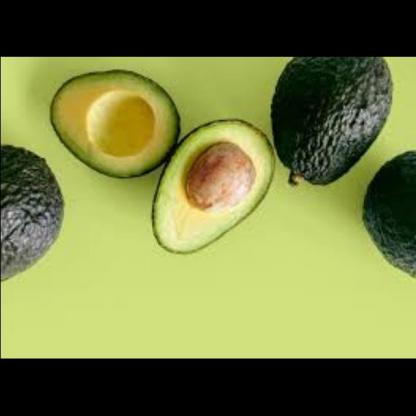avocado: (129, 117, 284, 295), (39, 60, 181, 186), (261, 63, 400, 186), (0, 134, 64, 323), (346, 154, 416, 288)
